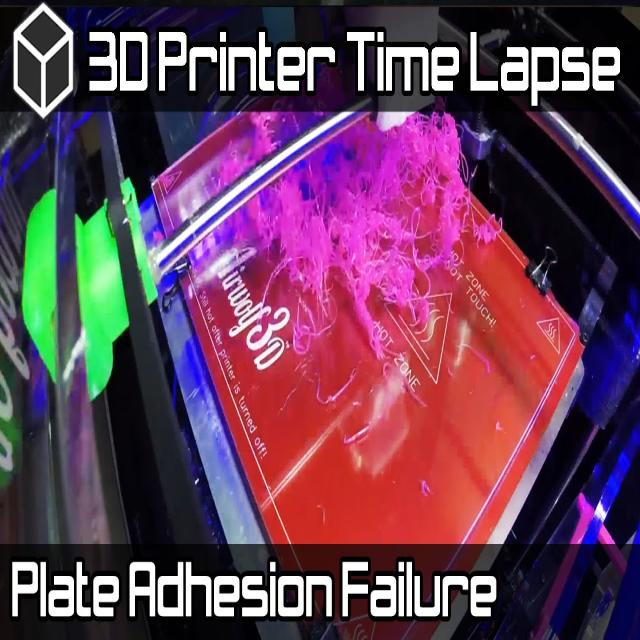Spaghetti: (253, 116, 506, 336)
